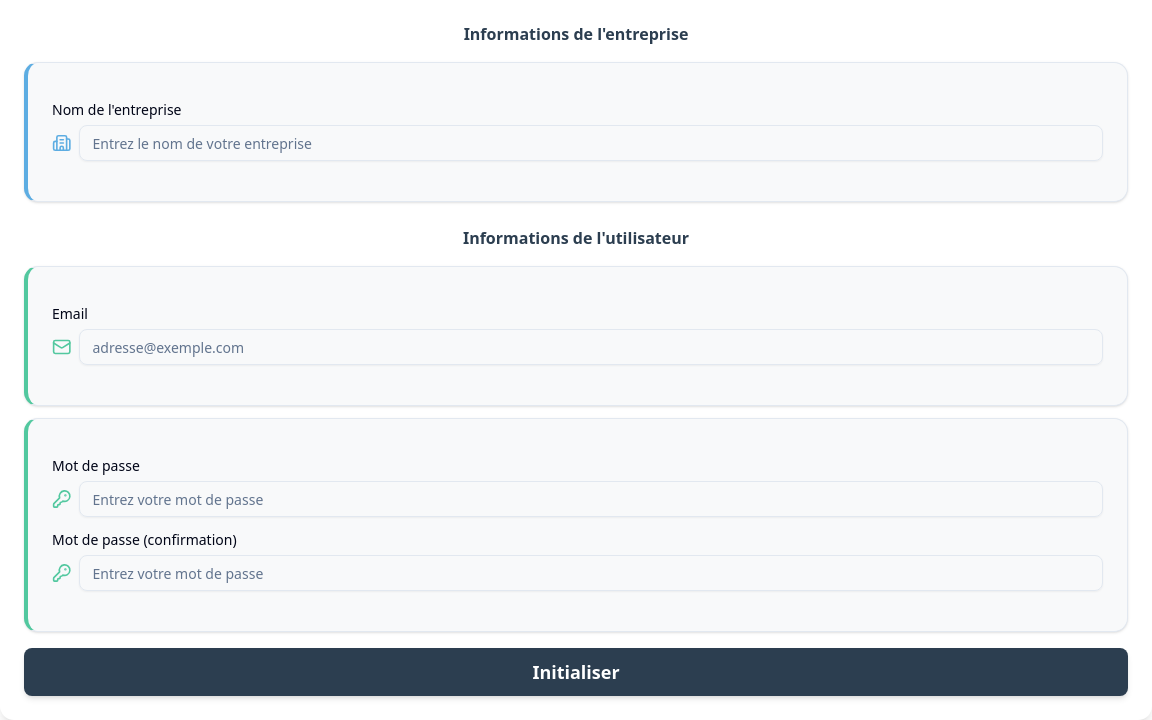
it: InitApp Component › Form Validation › should show Zod validation errors when fields are empty
(page scrolled)
Click the button "Initialiser" at (576,672), box [24,648,1128,696]
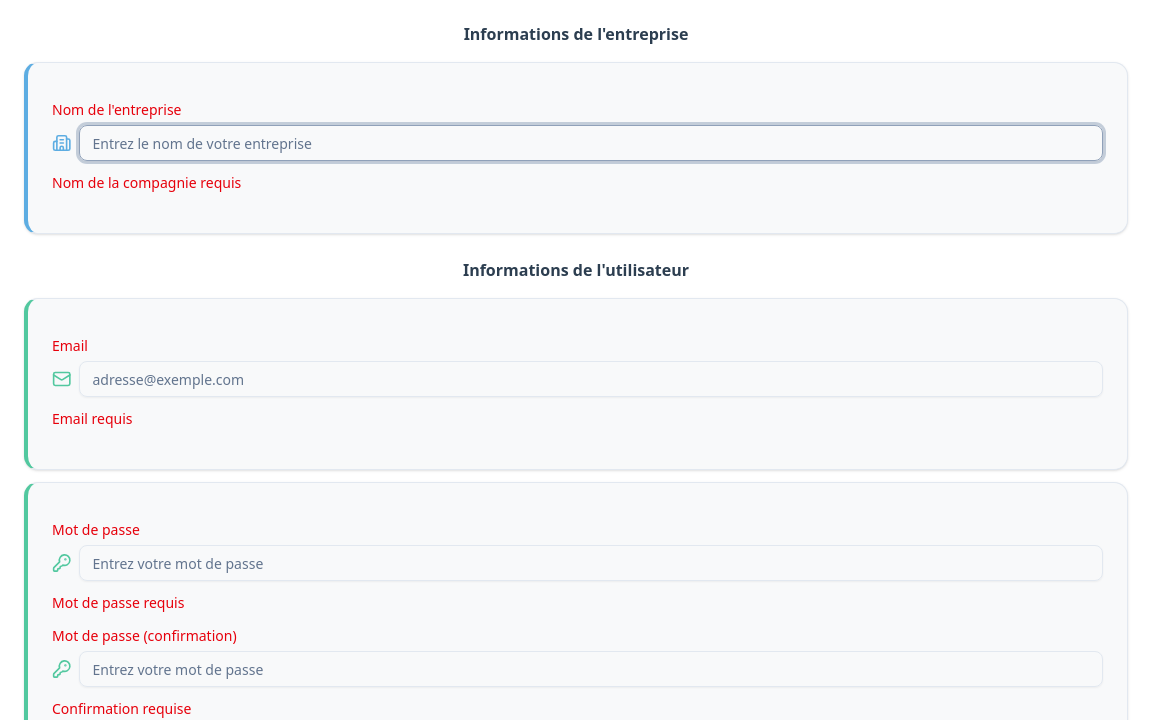
Expected: the text "Nom de la compagnie requis" is shown, [52,173,241,192]
